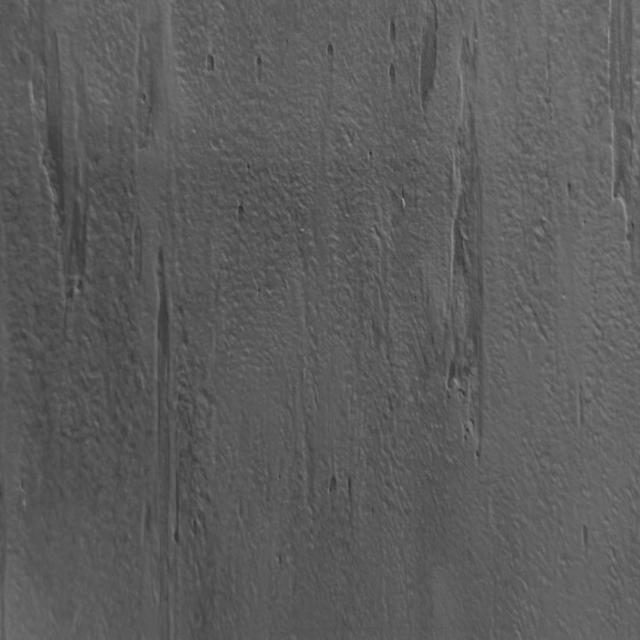pin holes: (443, 367, 460, 391), (384, 21, 399, 43), (326, 476, 337, 496), (204, 55, 216, 73), (564, 182, 576, 198), (272, 552, 283, 567), (473, 447, 482, 464), (234, 203, 244, 218), (325, 44, 334, 60)
